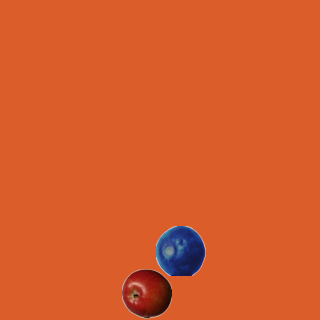Apple Braeburn: (121, 268, 171, 318)
Huckleberry: (155, 225, 205, 275)
